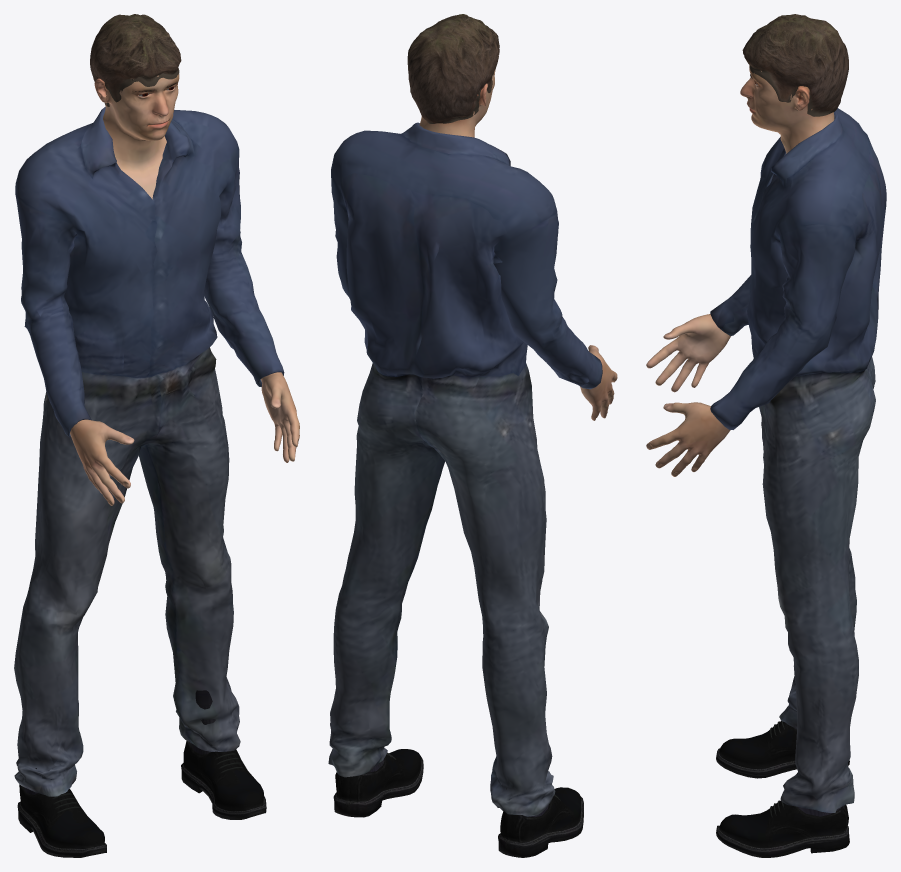
The model's file is farmer-40s.glb.
The picture shows the model from 3 angles, left to right: view 1: azimuth 30°, elevation 25°; view 2: azimuth 150°, elevation 25°; view 3: azimuth 270°, elevation 25°; orthographic projection.
Parts seen in each view (by area): view 1: Human.male_casualsuit01.001, Human.001, Human.shoes03.001, Human.short02.001; view 2: Human.male_casualsuit01.001, Human.short02.001, Human.shoes03.001, Human.001; view 3: Human.male_casualsuit01.001, Human.001, Human.shoes03.001, Human.short02.001.
Boxes of the visible parts, box(x1,y1,x2,y2) form: Human.male_casualsuit01.001: box(14, 107, 284, 796); Human.001: box(70, 74, 299, 505); Human.shoes03.001: box(17, 690, 266, 857); Human.short02.001: box(90, 14, 181, 106); Human.male_casualsuit01.001: box(328, 122, 602, 816); Human.short02.001: box(407, 14, 499, 123); Human.shoes03.001: box(333, 749, 583, 857); Human.001: box(419, 69, 617, 420); Human.male_casualsuit01.001: box(710, 108, 886, 812); Human.001: box(646, 65, 834, 476); Human.shoes03.001: box(716, 721, 849, 857); Human.short02.001: box(742, 14, 848, 116).
Bounding box in the file's own units: 0.5085 × 1.74 × 0.4822.
Materials: 6 (6 with a texture image).
